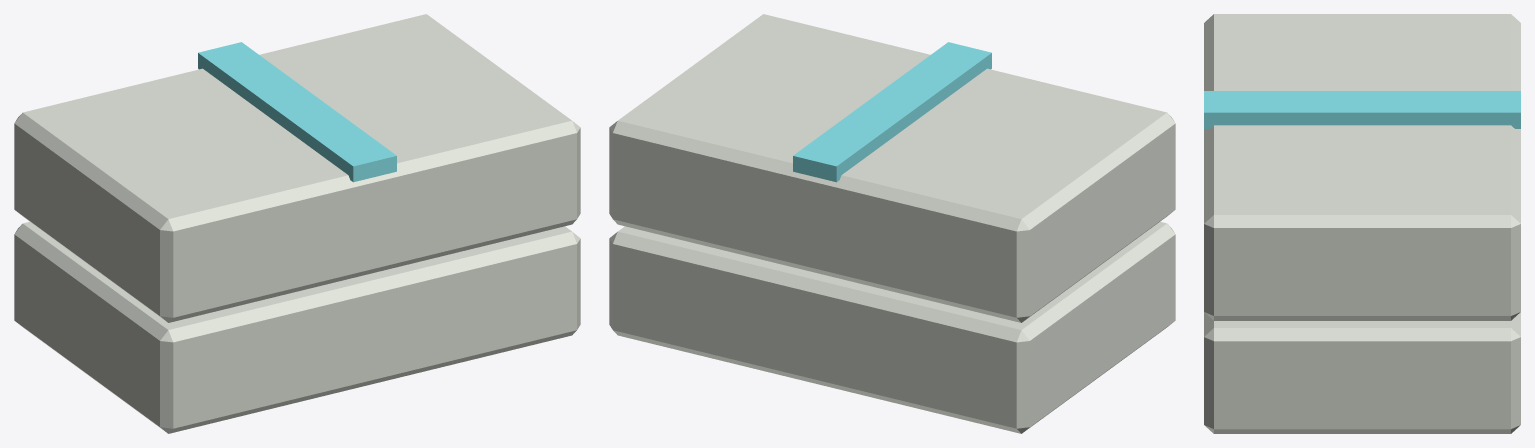
File: plastic.glb
The picture shows the model from 3 angles, left to right: view 1: azimuth 30°, elevation 25°; view 2: azimuth 150°, elevation 25°; view 3: azimuth 270°, elevation 25°; orthographic projection.
Parts seen in each view (by area): view 1: plastic / Ivory polymer, plastic / Cyan markings; view 2: plastic / Ivory polymer, plastic / Cyan markings; view 3: plastic / Ivory polymer, plastic / Cyan markings.
Part boxes in pixels (box(x1,y1,x2,y2)): plastic / Ivory polymer: box(14, 14, 580, 433); plastic / Cyan markings: box(198, 42, 396, 182); plastic / Ivory polymer: box(609, 14, 1175, 433); plastic / Cyan markings: box(793, 42, 991, 182); plastic / Ivory polymer: box(1204, 14, 1520, 433); plastic / Cyan markings: box(1204, 91, 1520, 128).
Size of the model in its own units: 0.25 by 0.129 by 0.16.
